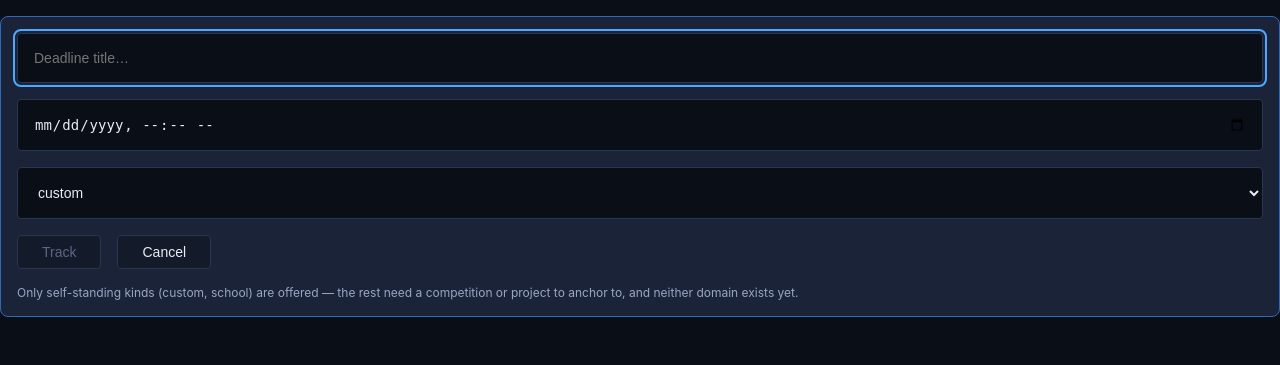
Test: DeadlineForm › renders the API's own error message on failure
The image size is (1280, 365).
Step 1. Type "x" into the field with placeholder "Deadline title…" → (640, 58), box [17,33,1263,83]
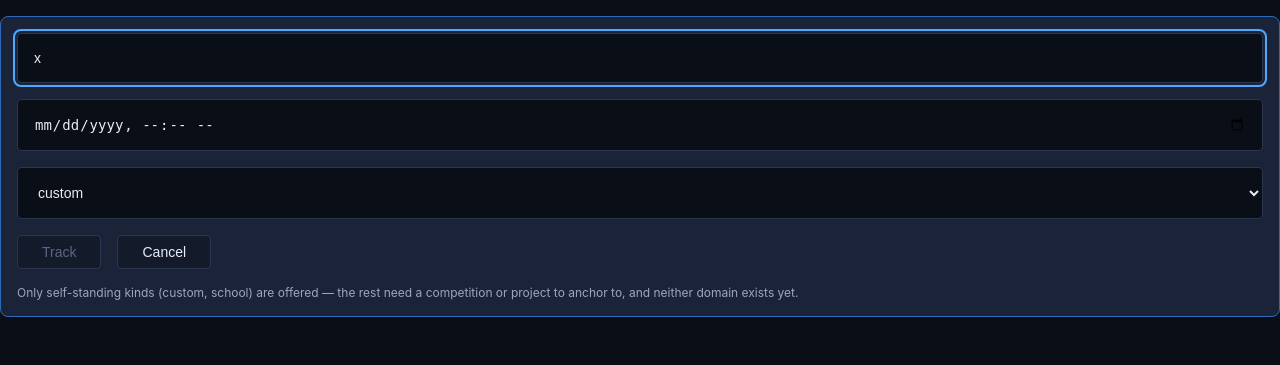
Step 2. Type "2026-09-01T17:00" into the field named "Due at" → (640, 125), box [17,99,1263,151]
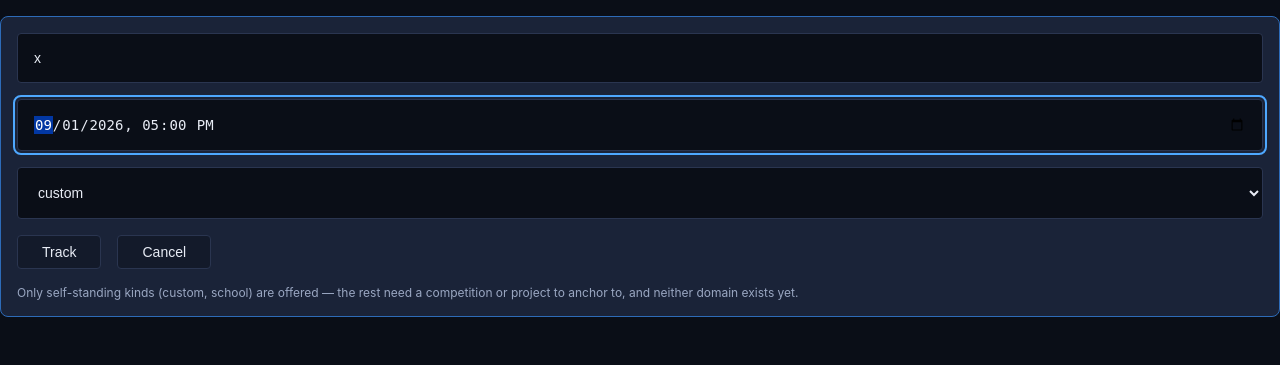
Step 3. Click the button "Track" → (59, 252), box [17,235,102,269]
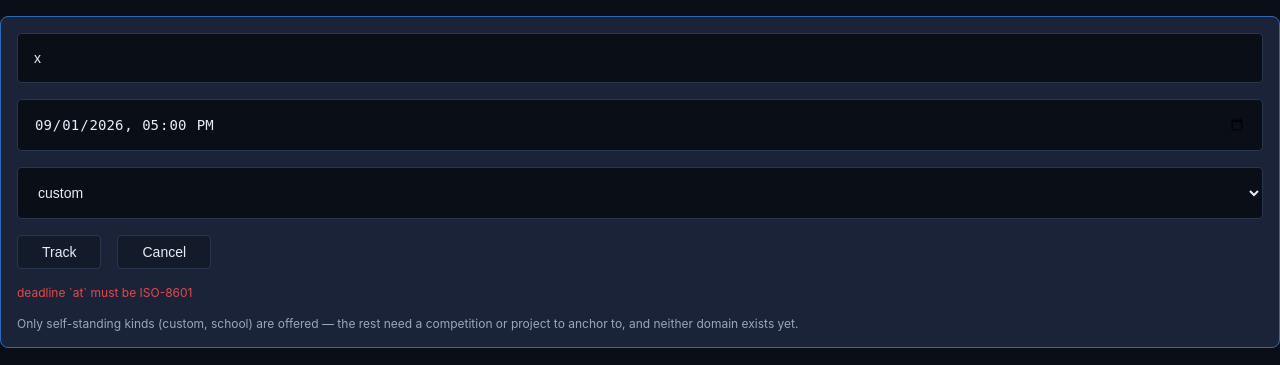
Result: the text "deadline `at` must be ISO-8601" is shown at [17,285,192,300]
